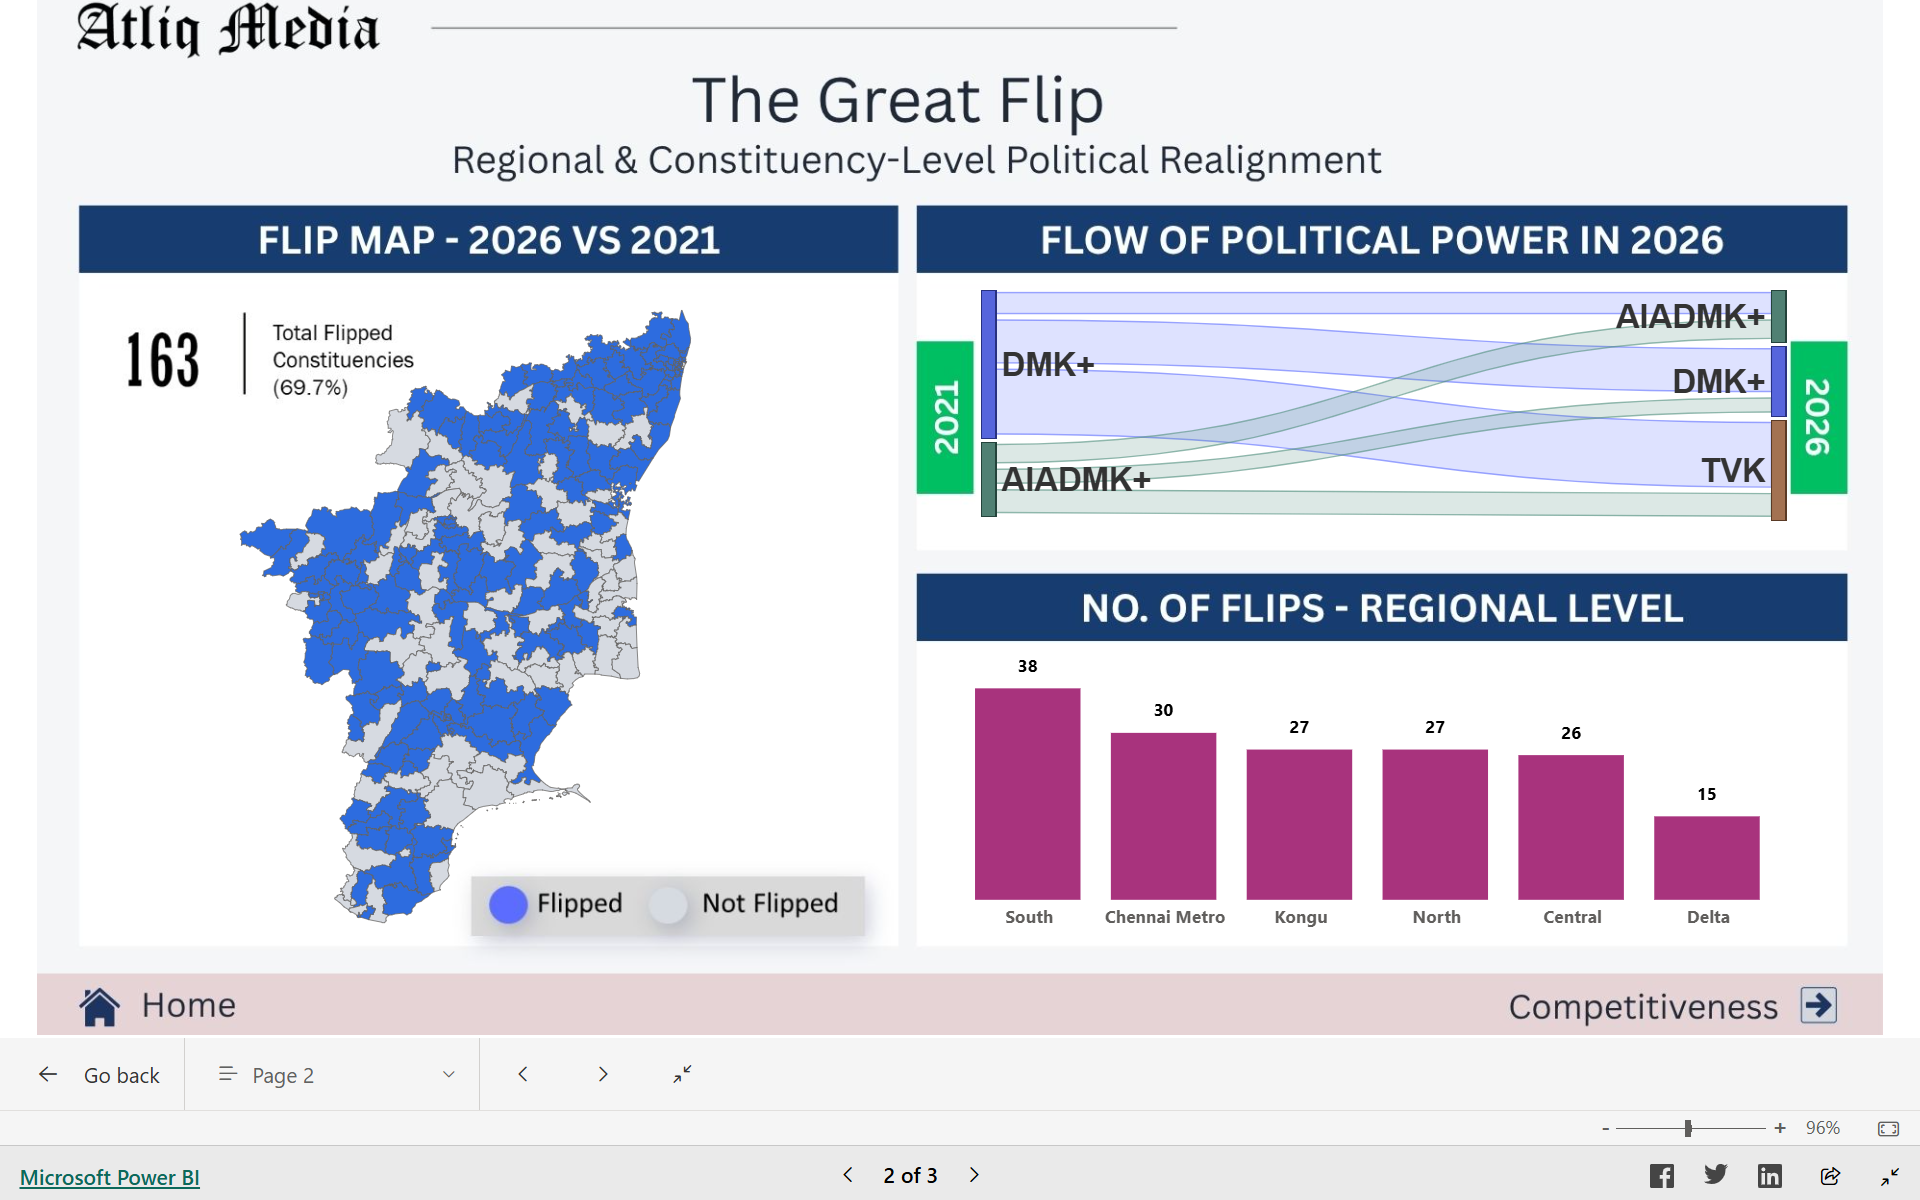

The dashboard page shown, as its layout file describes it:
{"tool":"powerbi","page":{"name":"Page 2","canvas":[1280,720],"ordinal":1},"visuals":[{"type":"shapeMap","fields":{"Category":["flip_analysis.ac_number"],"Series":["flip_analysis.Flipped?"],"Value":["CountNonNull(flip_analysis.Flipped?)"]},"box":[0,186.3,593.4,482],"z":0},{"type":"sankey02300D1BE6F5427989F3DE31CCA9E0F32020","fields":{"Source":["sankey_data.source"],"Destination":["sankey_data.target"],"Weight":["Sum(sankey_data.count)"]},"box":[640,186.3,599.5,192.4],"z":1000},{"type":"clusteredColumnChart","fields":{"Category":["flip_analysis.region"],"Y":["CountNonNull(flip_analysis.constituenct)"]},"box":[607.6,441.5,631.9,212.7],"z":2000},{"type":"shape","box":[0,668.4,188.4,52.7],"z":3000},{"type":"shape","box":[972.2,668.4,307.8,52.7],"z":4000}]}

Visuals, with their boxes on the page's 1280x720 design canvas (x1, y1, x2, y2). These are canvas units, not pixel positions in the 1920x1200 screenshot, which may show the page scaled, cropped or inside an application window:
shapeMap - flip_analysis.ac_number x flip_analysis.Flipped?: bbox=[0, 186, 593, 668]
sankey02300D1BE6F5427989F3DE31CCA9E0F32020 - sankey_data.source x sankey_data.target: bbox=[640, 186, 1240, 379]
clusteredColumnChart - flip_analysis.region x CountNonNull(flip_analysis.constituenct): bbox=[608, 442, 1240, 654]
shape: bbox=[0, 668, 188, 721]
shape: bbox=[972, 668, 1280, 721]
